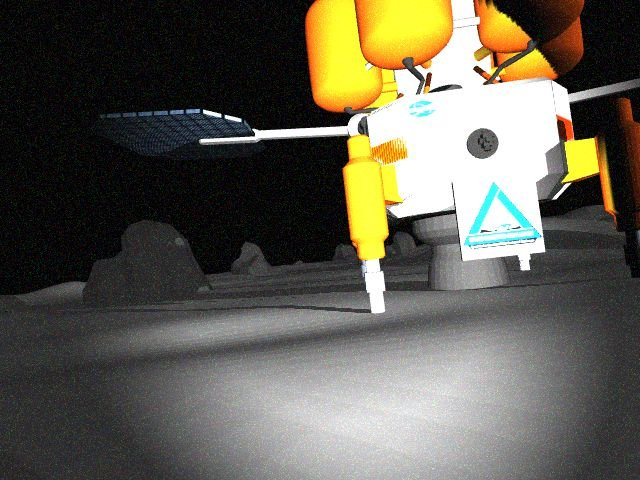basemarker: (459, 181, 544, 251)
